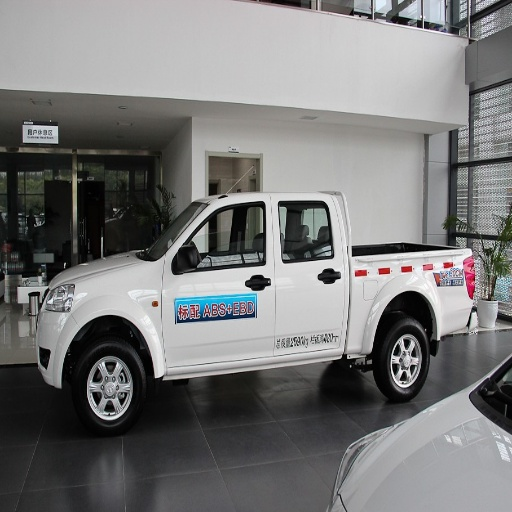back_left_door: (276, 202, 340, 349)
front_left_door: (163, 203, 275, 365)
trunk: (331, 246, 476, 354)
